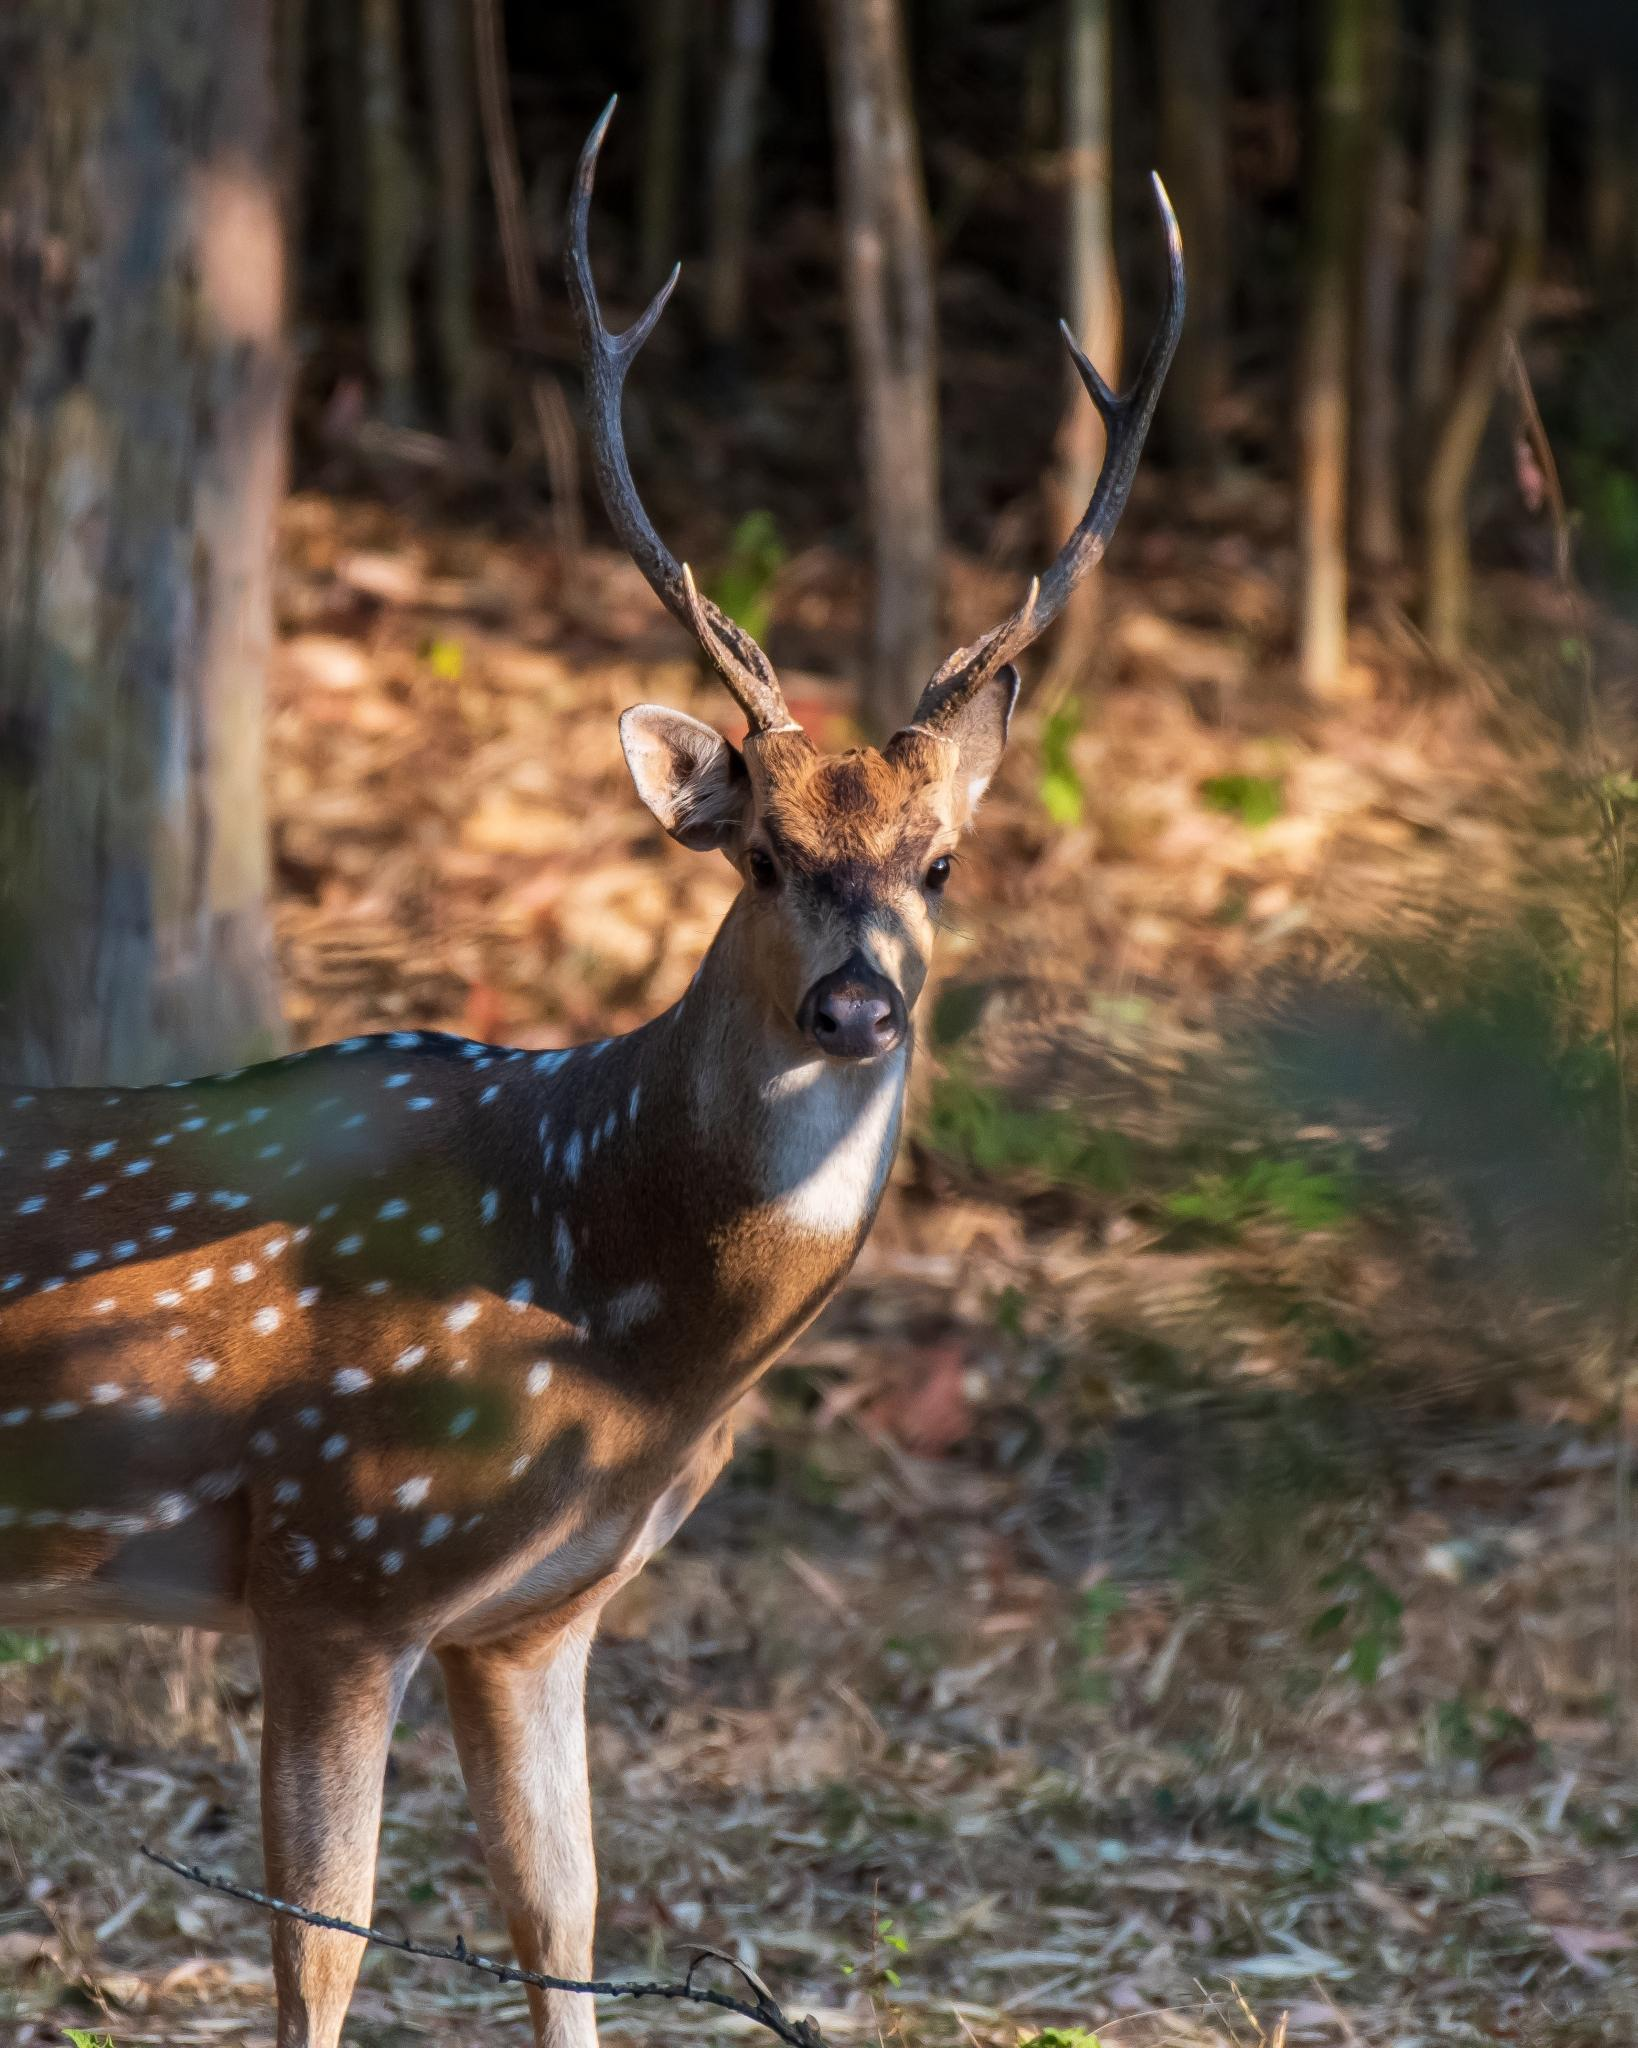Deer: (0, 102, 1183, 2046)
